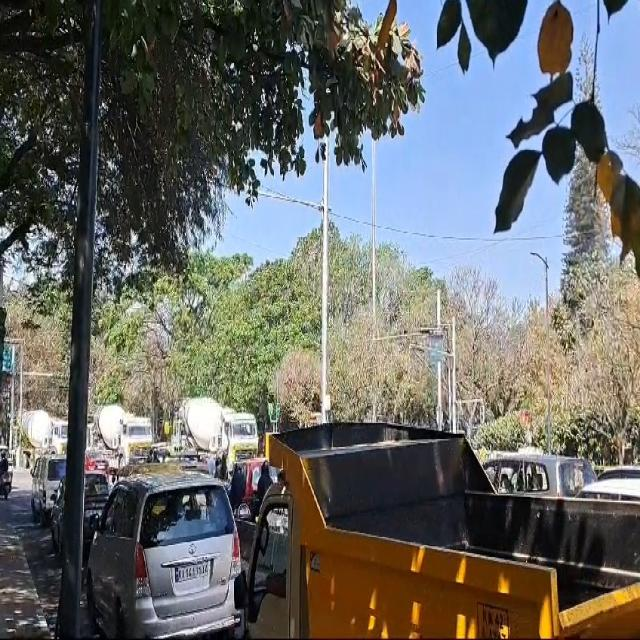cars: (85, 476, 243, 640)
